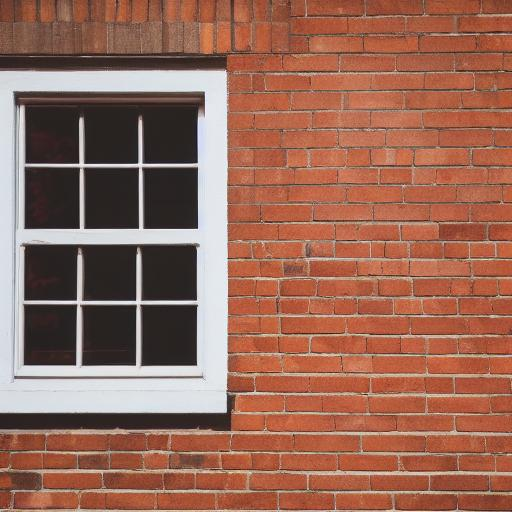Window: (1, 51, 234, 425)
